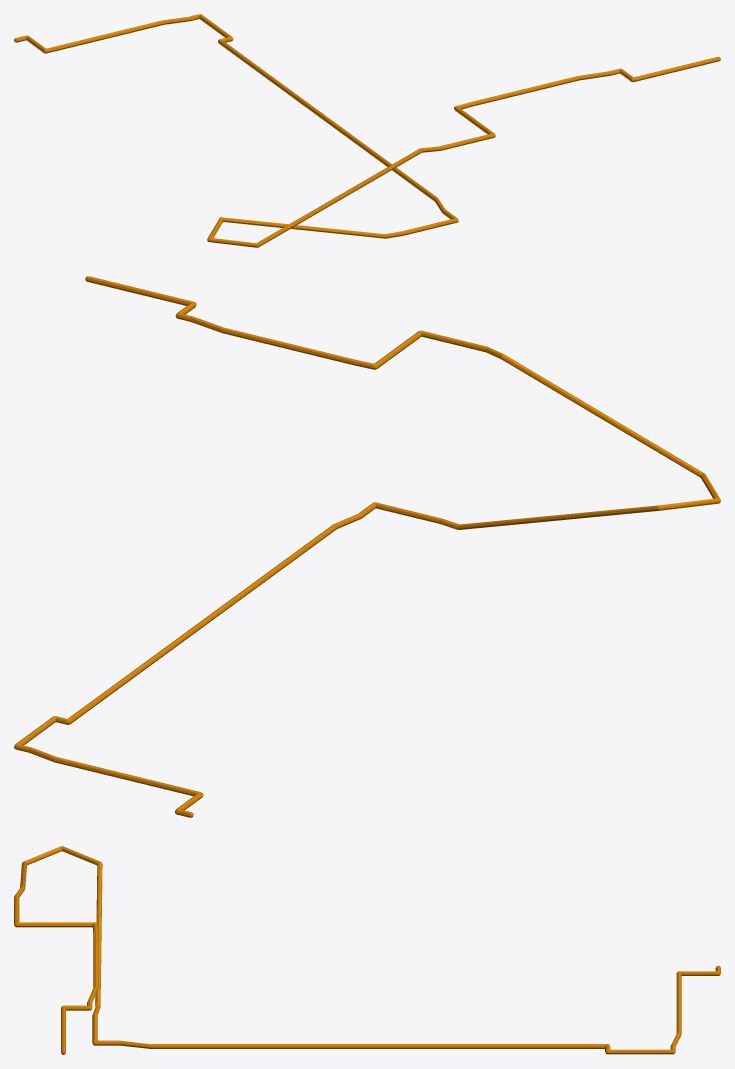
3 renders of one model, top to bottom at view 1: azimuth 30°, elevation 25°; view 2: azimuth 150°, elevation 25°; view 3: azimuth 270°, elevation 25°, orthographic. The views are drawn at different scales.
Size of the model in its own units: 2402 by 520 by 2704.
